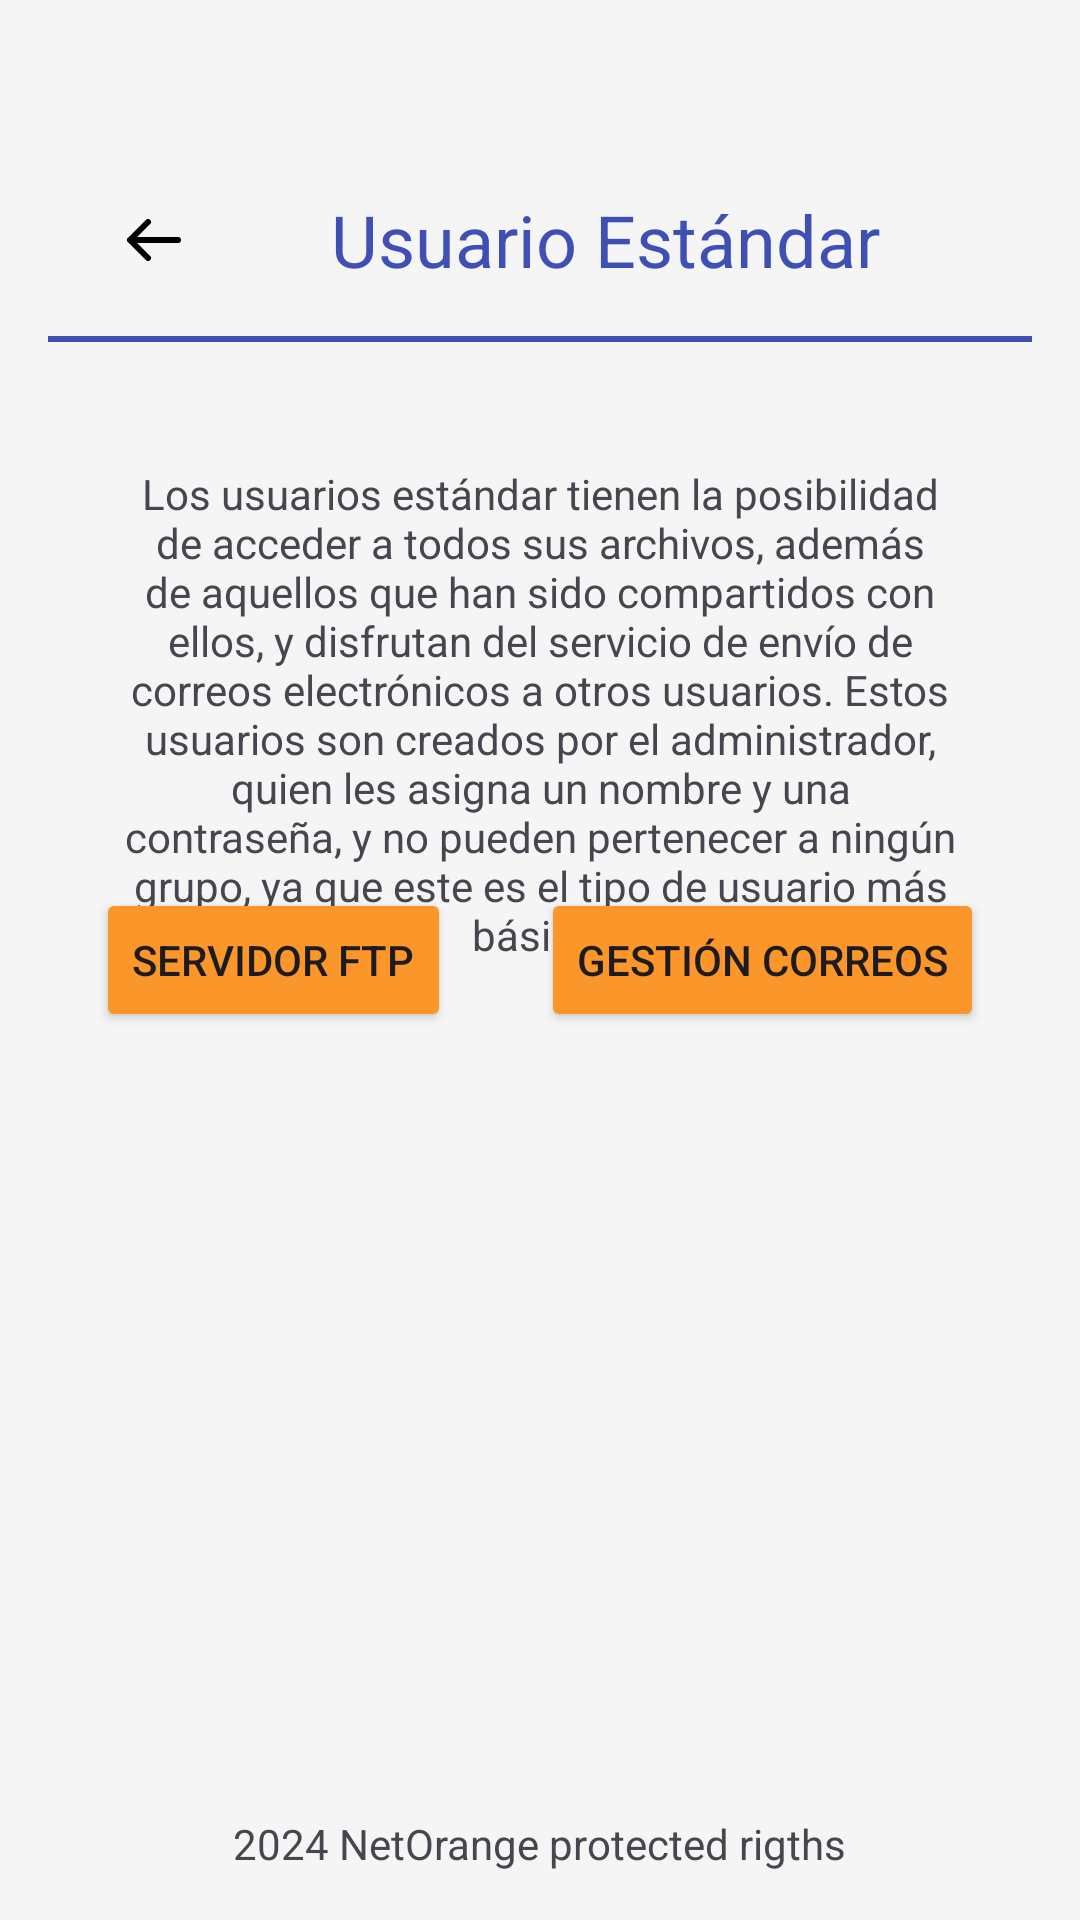

Named icons in this screenshot (1080 × 1920) and their bounding boxes, (x1, y1, x2, y2):
Volver atrás: (127, 219, 181, 261)
